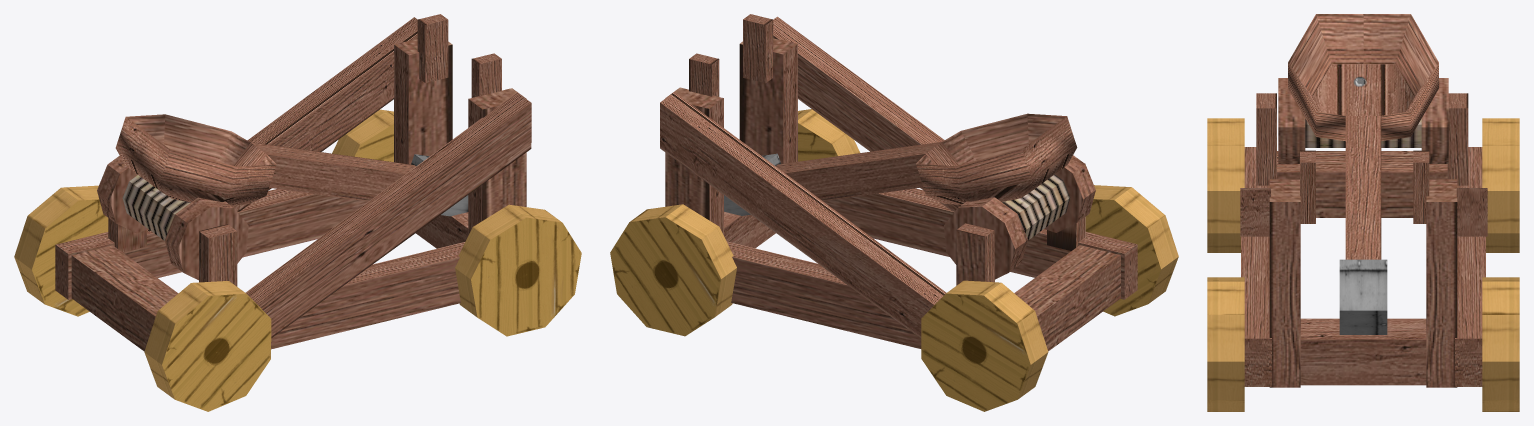
The model's file is catapult.fbx.
The picture shows the model from 3 angles, left to right: view 1: azimuth 30°, elevation 25°; view 2: azimuth 150°, elevation 25°; view 3: azimuth 270°, elevation 25°; orthographic projection. The views are drawn at different scales.
Visible parts, largest first — view 1: polySurface12, CubeFire, polySurface4, polySurface6, polySurface15, polySurface13, polySurface14, Cylinder, polySurface1, polySurface3, polySurface9, polySurface10 (+6 smaller); view 2: polySurface13, CubeFire, polySurface3, polySurface5, polySurface14, polySurface12, polySurface15, Cylinder, polySurface1, polySurface4, polySurface10, polySurface9 (+6 smaller); view 3: CubeFire, polySurface2, polySurface10, polySurface9, polySurface6, polySurface5, polySurface1, polySurface4, polySurface3, polySurface14, polySurface15, Cylinder (+6 smaller).
Boxes of the visible parts, box(x1,y1,x2,y2) form: polySurface12: box(245, 92, 531, 337); CubeFire: box(115, 114, 468, 216); polySurface4: box(144, 281, 271, 411); polySurface6: box(455, 204, 581, 336); polySurface15: box(155, 242, 464, 349); polySurface13: box(147, 17, 417, 232); polySurface14: box(55, 189, 368, 299); Cylinder: box(97, 155, 248, 280); polySurface1: box(71, 245, 178, 351); polySurface3: box(14, 185, 108, 316); polySurface9: box(394, 39, 452, 164); polySurface10: box(468, 88, 526, 235); polySurface13: box(660, 92, 946, 338); CubeFire: box(724, 113, 1077, 215); polySurface3: box(921, 280, 1048, 411); polySurface5: box(610, 204, 736, 336); polySurface14: box(727, 241, 1037, 348); polySurface12: box(773, 16, 1045, 232); polySurface15: box(823, 188, 1137, 299); Cylinder: box(944, 155, 1095, 279); polySurface1: box(1014, 245, 1120, 351); polySurface4: box(1085, 185, 1178, 316); polySurface10: box(739, 38, 797, 163); polySurface9: box(665, 87, 723, 235); CubeFire: box(1288, 14, 1438, 334); polySurface2: box(1300, 318, 1426, 385); polySurface10: box(1269, 179, 1300, 387); polySurface9: box(1426, 179, 1457, 387); polySurface6: box(1207, 277, 1244, 411); polySurface5: box(1482, 277, 1519, 411); polySurface1: box(1277, 151, 1447, 217); polySurface4: box(1207, 118, 1244, 252); polySurface3: box(1482, 118, 1519, 252); polySurface14: box(1455, 147, 1485, 386); polySurface15: box(1241, 147, 1271, 386); Cylinder: box(1278, 78, 1448, 163).
Size of the model in its own units: 4.53 by 2.46 by 2.76.
